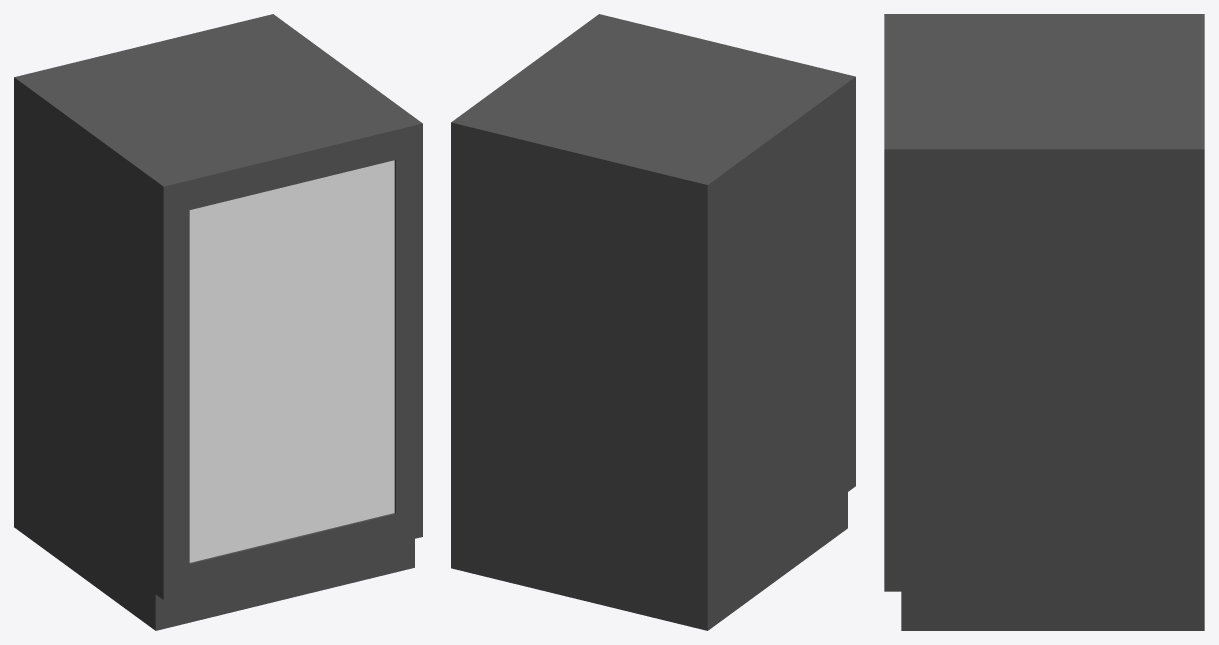
File: ASFTR_FridgeHumanMeat.fbx
The picture shows the model from 3 angles, left to right: view 1: azimuth 30°, elevation 25°; view 2: azimuth 150°, elevation 25°; view 3: azimuth 270°, elevation 25°; orthographic projection. The views are drawn at different scales.
Visible parts, largest first — view 1: ASFTR_FridgeHumanMeat; view 2: ASFTR_FridgeHumanMeat; view 3: ASFTR_FridgeHumanMeat.
Boxes of the visible parts, bbox=[...] form: ASFTR_FridgeHumanMeat: bbox=[14, 14, 422, 630]; ASFTR_FridgeHumanMeat: bbox=[451, 14, 855, 630]; ASFTR_FridgeHumanMeat: bbox=[884, 14, 1204, 630].
Bounding box in the file's own units: 100 × 166 × 99.96.
